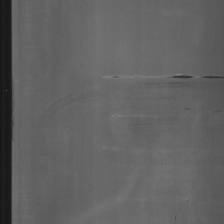crease: (98, 63, 224, 97)
